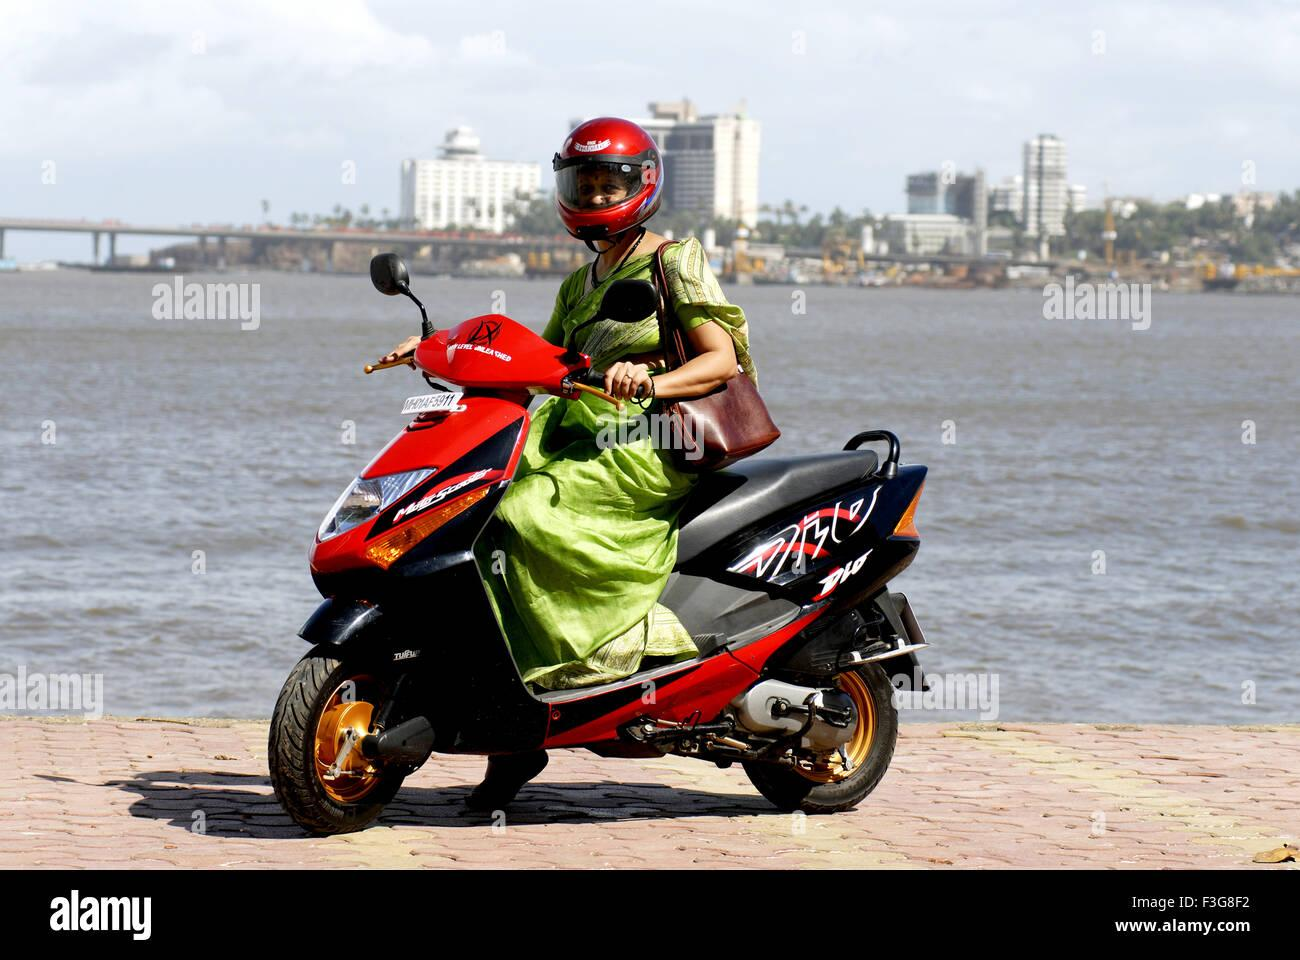Helmet: (553, 117, 663, 246)
